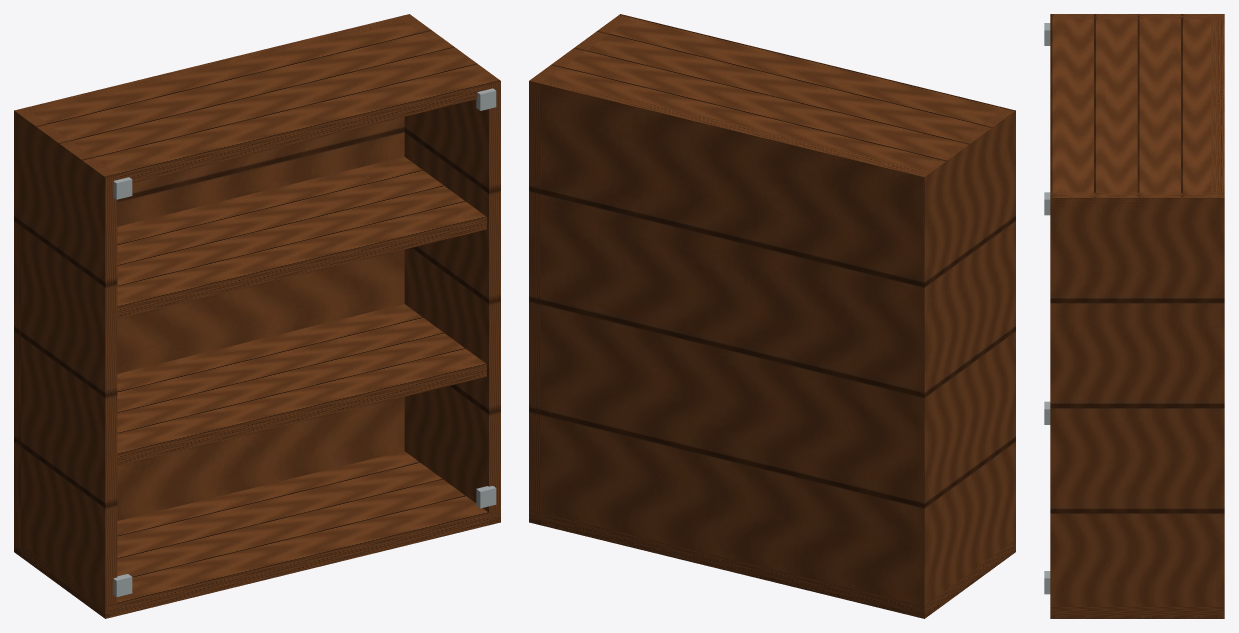
File: prehistoric-survivor-settlement-communal-basket-shelve-d674dc9e__23213.glb
The picture shows the model from 3 angles, left to right: view 1: azimuth 30°, elevation 25°; view 2: azimuth 150°, elevation 25°; view 3: azimuth 270°, elevation 25°; orthographic projection. The views are drawn at different scales.
Visible parts, largest first — view 1: communal-basket-shelves; view 2: communal-basket-shelves; view 3: communal-basket-shelves.
Boxes of the visible parts, <box> form: communal-basket-shelves: <box>14,14,500,618</box>; communal-basket-shelves: <box>529,14,1015,618</box>; communal-basket-shelves: <box>1044,14,1224,618</box>.
Bounding box in the file's own units: 1.5 × 1.6 × 0.621.
Materials: 2 (1 with a texture image).
